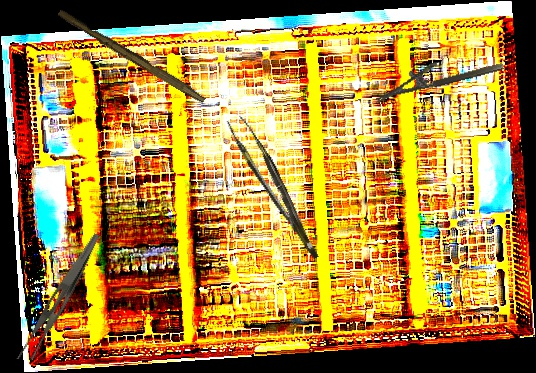Dressing Forceps: (14, 225, 101, 369)
Needle Holder: (370, 46, 505, 103)
Scalpel Handle: (55, 8, 209, 104)
Tissue Forceps: (226, 109, 319, 269)
